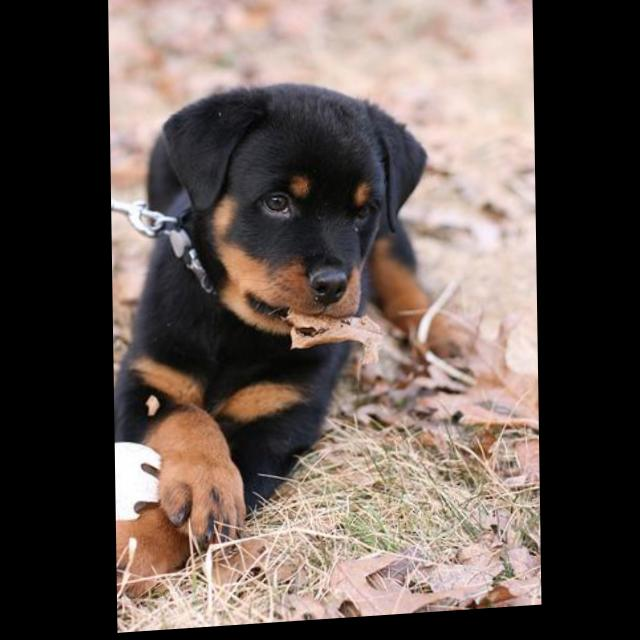rottweiler: (110, 75, 466, 589)
